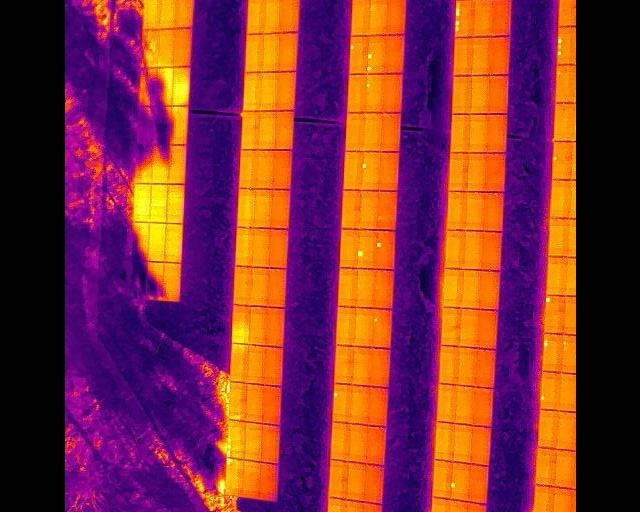Cell: (331, 383, 352, 423), (539, 373, 561, 411), (542, 332, 563, 371), (545, 293, 565, 333), (551, 142, 572, 180), (374, 229, 393, 270), (450, 462, 469, 502), (360, 151, 379, 191), (357, 230, 376, 268), (371, 310, 391, 346), (555, 65, 573, 104), (377, 192, 395, 229), (348, 36, 365, 73), (365, 75, 381, 112), (558, 0, 574, 29), (446, 500, 465, 512)
Cell-Multi: (366, 35, 385, 76), (454, 0, 473, 39), (557, 25, 573, 64), (227, 421, 244, 457)
No-Anomaly: (469, 425, 491, 466), (438, 343, 458, 387), (237, 150, 259, 190), (456, 346, 477, 387), (550, 178, 571, 219), (472, 387, 493, 427), (546, 256, 567, 296), (434, 421, 453, 465), (487, 75, 507, 116), (441, 268, 462, 307), (240, 110, 260, 150), (236, 188, 256, 228), (379, 151, 399, 191), (549, 218, 569, 257), (372, 269, 392, 308), (451, 112, 470, 153), (475, 349, 494, 390), (270, 187, 289, 228), (264, 346, 283, 387), (490, 0, 511, 37), (461, 269, 480, 309), (459, 308, 478, 348), (455, 385, 474, 425), (453, 36, 472, 76), (452, 75, 471, 115), (452, 424, 471, 464), (449, 153, 468, 193), (482, 231, 501, 271), (363, 464, 382, 504), (269, 229, 288, 269), (259, 463, 278, 503), (440, 305, 458, 347), (437, 384, 456, 423), (385, 34, 404, 73), (382, 74, 401, 113), (485, 153, 504, 192), (474, 0, 493, 39), (369, 348, 388, 387), (339, 228, 358, 267), (337, 268, 356, 307), (445, 229, 463, 270), (368, 386, 386, 427), (258, 110, 276, 151), (553, 102, 572, 140), (490, 37, 509, 75), (487, 115, 506, 153), (366, 426, 385, 464), (346, 74, 365, 112), (336, 308, 355, 346), (329, 423, 348, 461), (538, 409, 557, 447), (536, 448, 555, 486), (448, 189, 466, 229), (380, 114, 400, 150), (479, 270, 497, 310), (355, 268, 373, 308), (277, 72, 295, 112), (465, 192, 483, 231), (243, 72, 261, 111), (558, 411, 576, 450), (484, 192, 502, 231), (472, 37, 490, 76), (468, 114, 486, 153), (348, 423, 366, 462), (341, 190, 359, 229), (262, 386, 280, 425), (260, 425, 278, 464), (463, 230, 480, 271), (243, 460, 261, 498), (478, 310, 496, 348), (468, 465, 486, 503), (350, 0, 369, 36), (280, 33, 298, 71), (272, 149, 290, 187), (468, 152, 485, 192), (266, 307, 283, 347), (555, 450, 573, 487), (263, 0, 282, 35), (248, 344, 265, 383), (244, 422, 261, 461), (233, 266, 250, 305), (171, 106, 188, 145), (166, 184, 183, 223), (471, 75, 488, 114), (362, 113, 379, 152), (347, 460, 364, 499), (343, 150, 360, 189), (254, 188, 270, 229), (249, 306, 266, 344), (234, 228, 251, 266), (231, 343, 248, 381), (173, 29, 190, 67), (354, 308, 371, 346), (335, 346, 352, 384), (250, 267, 267, 305), (173, 66, 189, 106), (165, 224, 181, 264), (134, 183, 150, 223), (261, 71, 277, 111), (257, 150, 273, 190), (328, 463, 346, 498), (163, 263, 180, 300), (157, 29, 174, 66), (359, 191, 376, 228), (433, 461, 449, 500), (234, 304, 250, 343), (353, 346, 369, 385), (263, 33, 279, 72), (151, 183, 166, 224), (267, 270, 284, 306), (148, 224, 164, 262), (276, 111, 292, 149), (246, 35, 262, 72), (252, 230, 268, 267), (169, 145, 184, 184), (352, 386, 367, 425), (389, 0, 406, 34), (370, 0, 387, 34), (246, 384, 261, 422), (282, 0, 299, 33), (561, 374, 576, 411), (346, 113, 361, 150), (534, 484, 553, 512), (176, 0, 193, 29), (249, 0, 263, 34), (142, 0, 159, 28), (554, 487, 573, 512), (159, 0, 175, 29), (430, 498, 447, 512), (329, 498, 346, 512), (345, 499, 363, 512), (361, 504, 380, 512)
Shadowing: (131, 222, 151, 262), (145, 262, 164, 300), (134, 146, 153, 184), (150, 144, 168, 184), (138, 67, 156, 107), (140, 29, 158, 68), (138, 106, 155, 147), (156, 67, 173, 107), (154, 105, 171, 144)
Unclassified: (225, 458, 244, 496), (228, 381, 246, 421)
